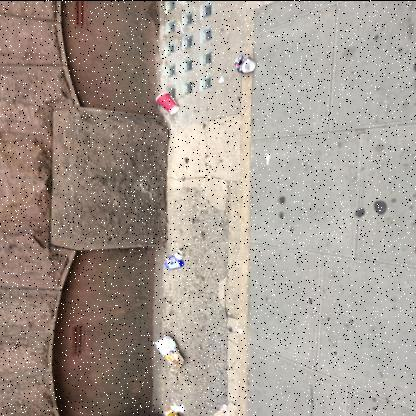cardboard: (156, 92, 180, 114), (164, 247, 184, 270)
metal: (234, 54, 257, 72)
paper: (152, 333, 184, 370)
